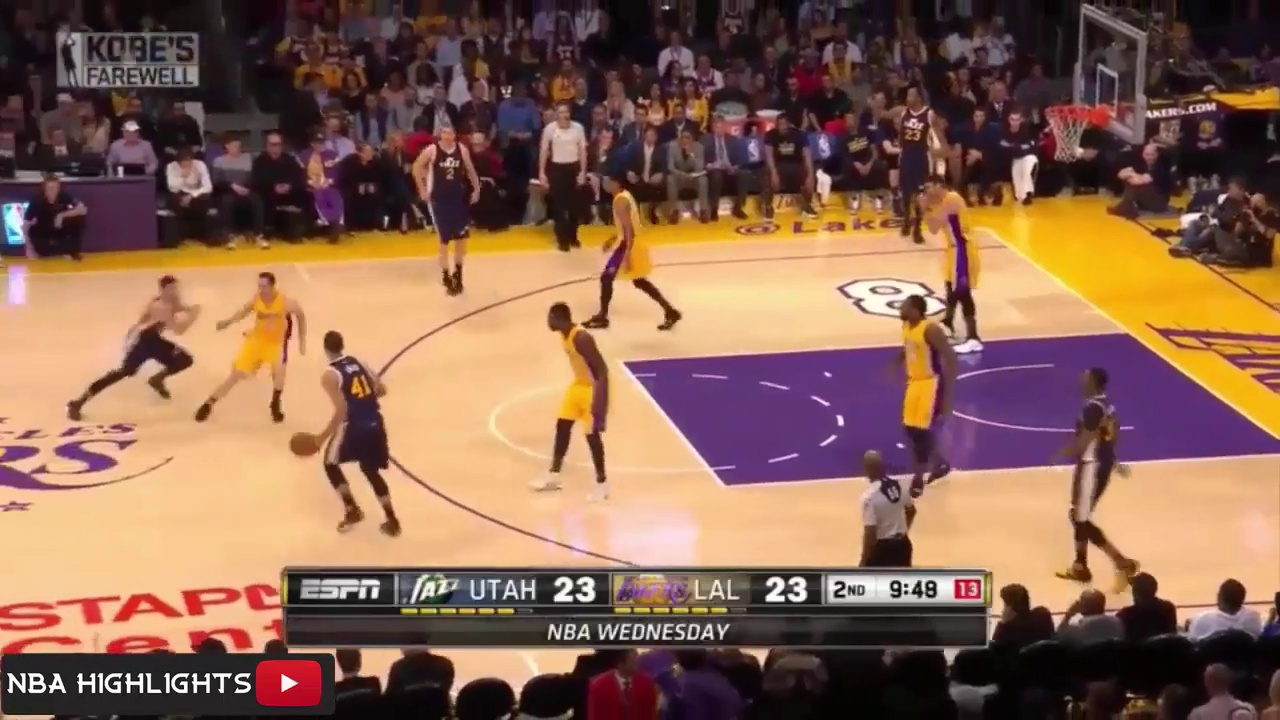jazz: (293, 327, 417, 538), (71, 275, 213, 420), (1053, 357, 1142, 580), (414, 121, 492, 295), (888, 82, 939, 238)
lakers: (538, 304, 620, 513), (878, 289, 957, 501), (209, 277, 323, 416), (588, 171, 682, 332), (916, 174, 981, 350)
